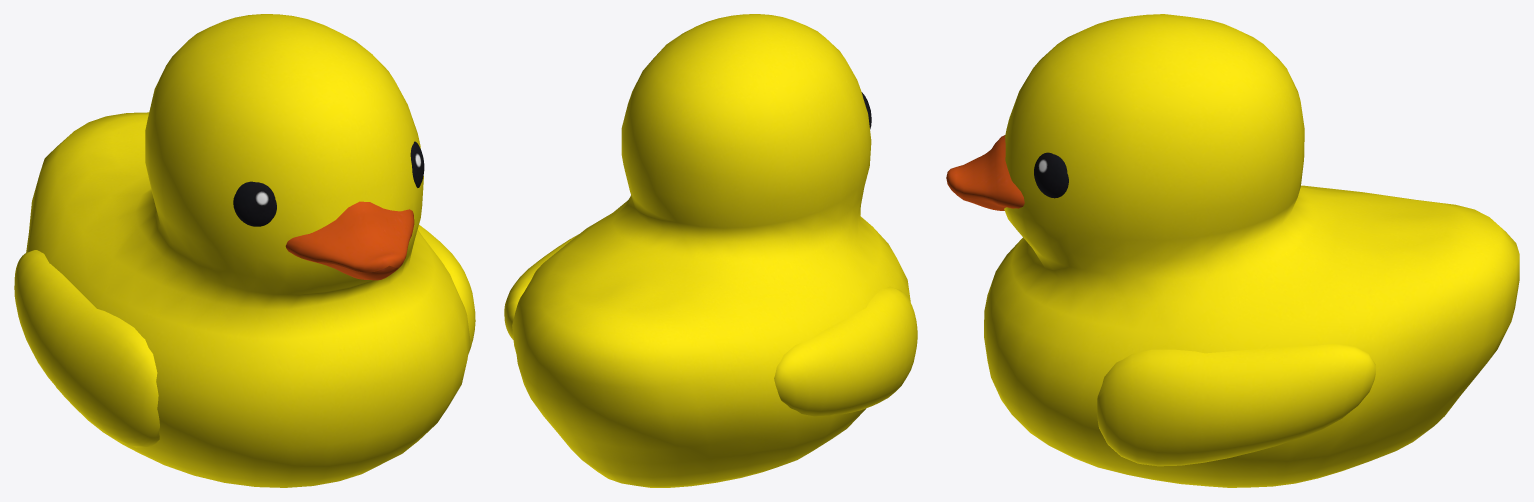
File: duck.glb
3 views of the same model, side by side, from view 1: azimuth 30°, elevation 25°; view 2: azimuth 150°, elevation 25°; view 3: azimuth 270°, elevation 25° (orthographic). The views are drawn at different scales.
Visible parts, largest first — view 1: Sphere001; view 2: Sphere001; view 3: Sphere001.
Part boxes in pixels (left/top/right/bottom): Sphere001: left=14, top=14, right=475, bottom=487; Sphere001: left=504, top=14, right=917, bottom=487; Sphere001: left=946, top=14, right=1519, bottom=487.
Size of the model in its own units: 272 by 297 by 354.
Materials: 1 (1 with a texture image).
